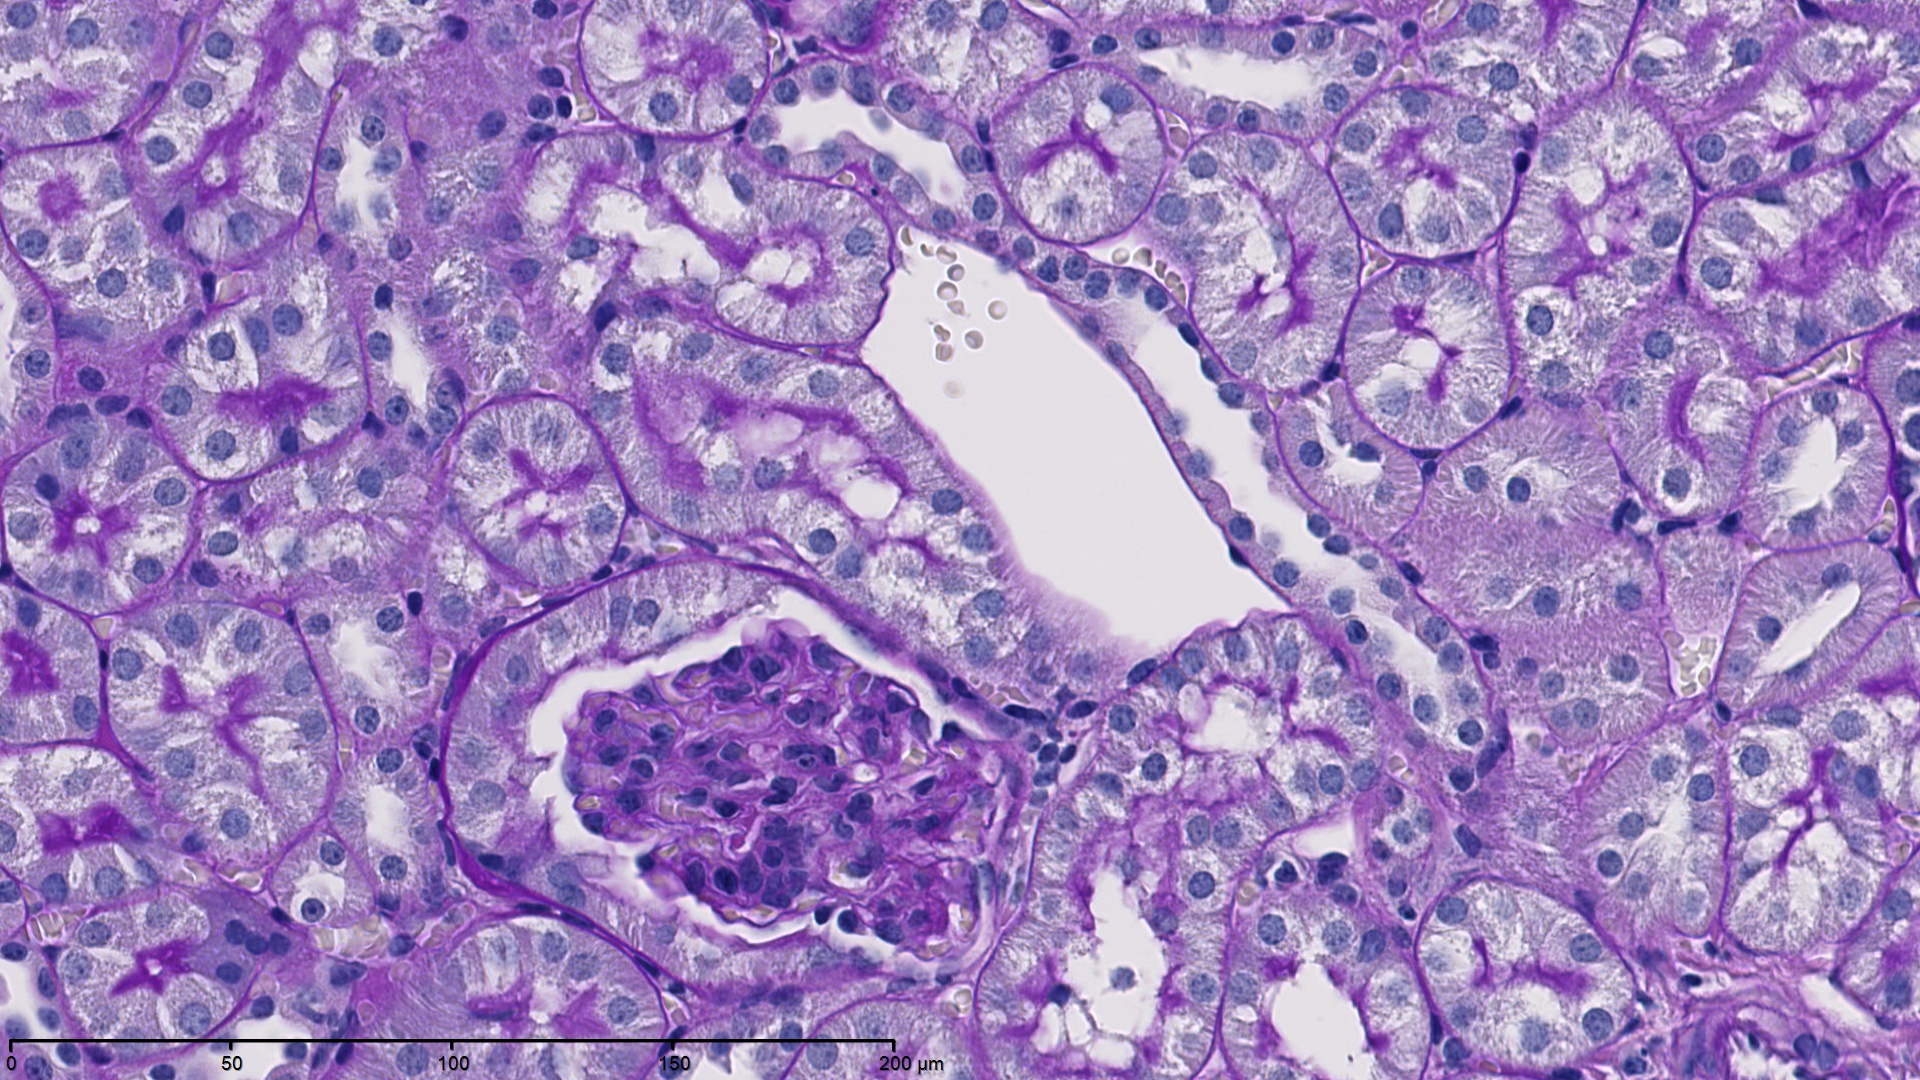Glomeruli: (467, 607, 1039, 975)
